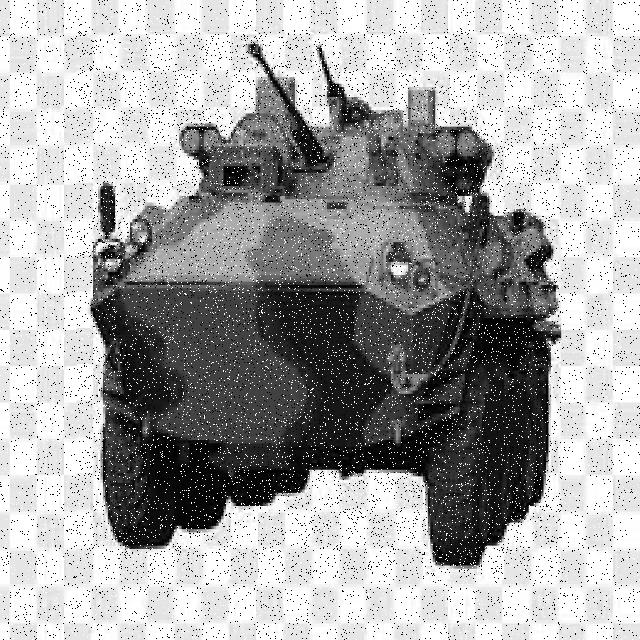MIL_MBT: (77, 33, 560, 579)
